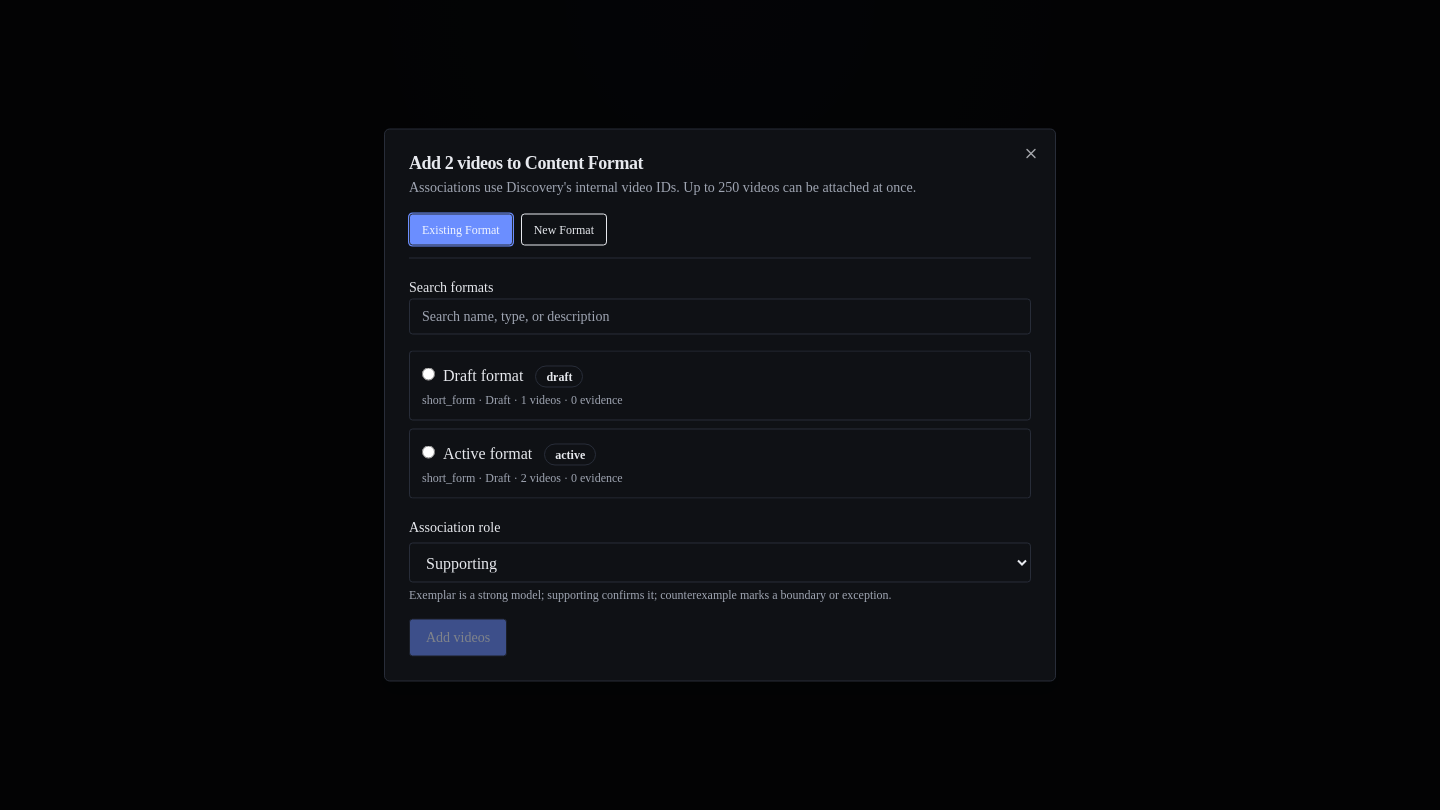
Scenario: Discovery bulk Content Format dialog › sends only internal video IDs in the existing-format bulk payload and invalidates format queries on success
Click the radio button labelled "Draft format": (428, 374) [422,368,435,380]
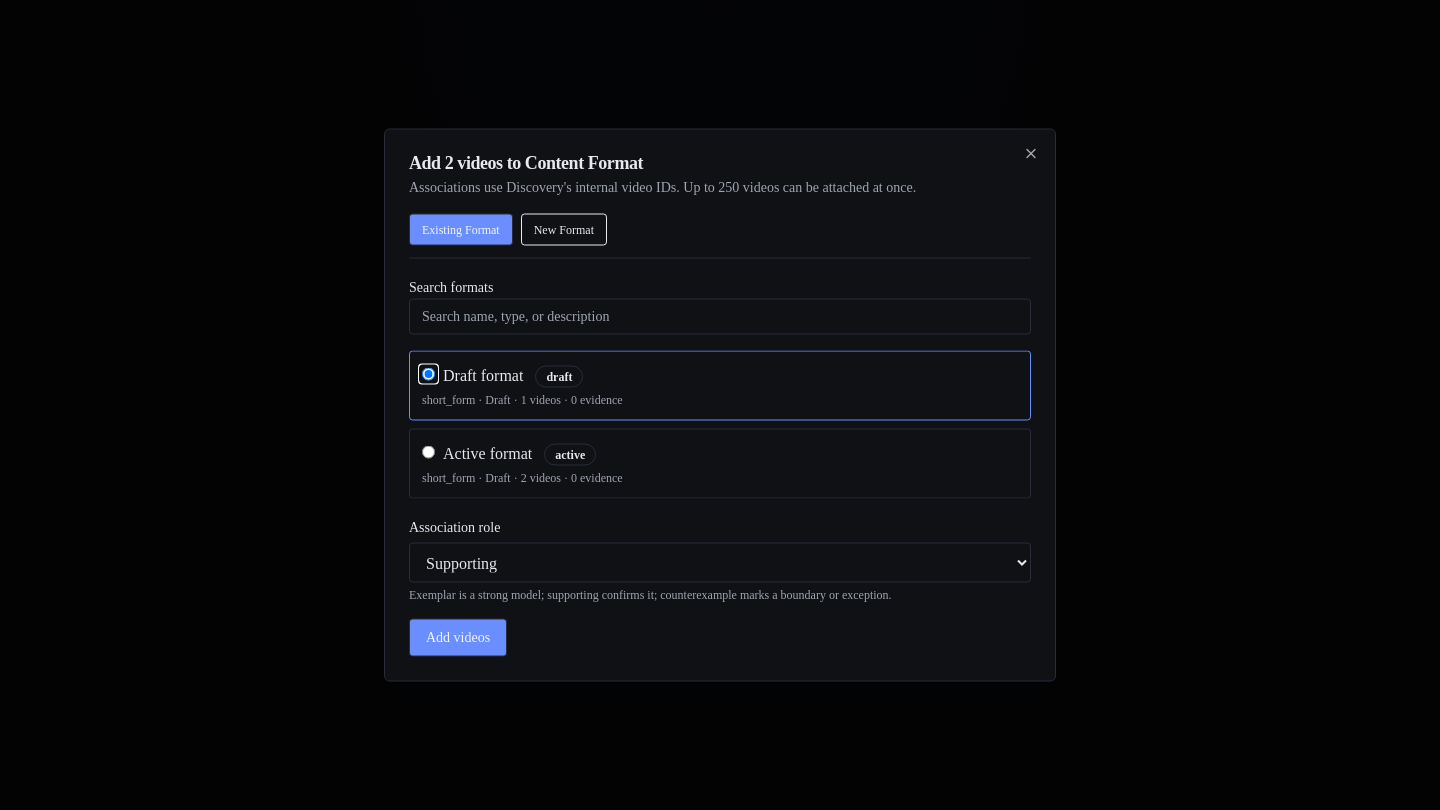
Select "Exemplar" in the dropdown labelled "Association role": (720, 562) [409,542,1031,582]
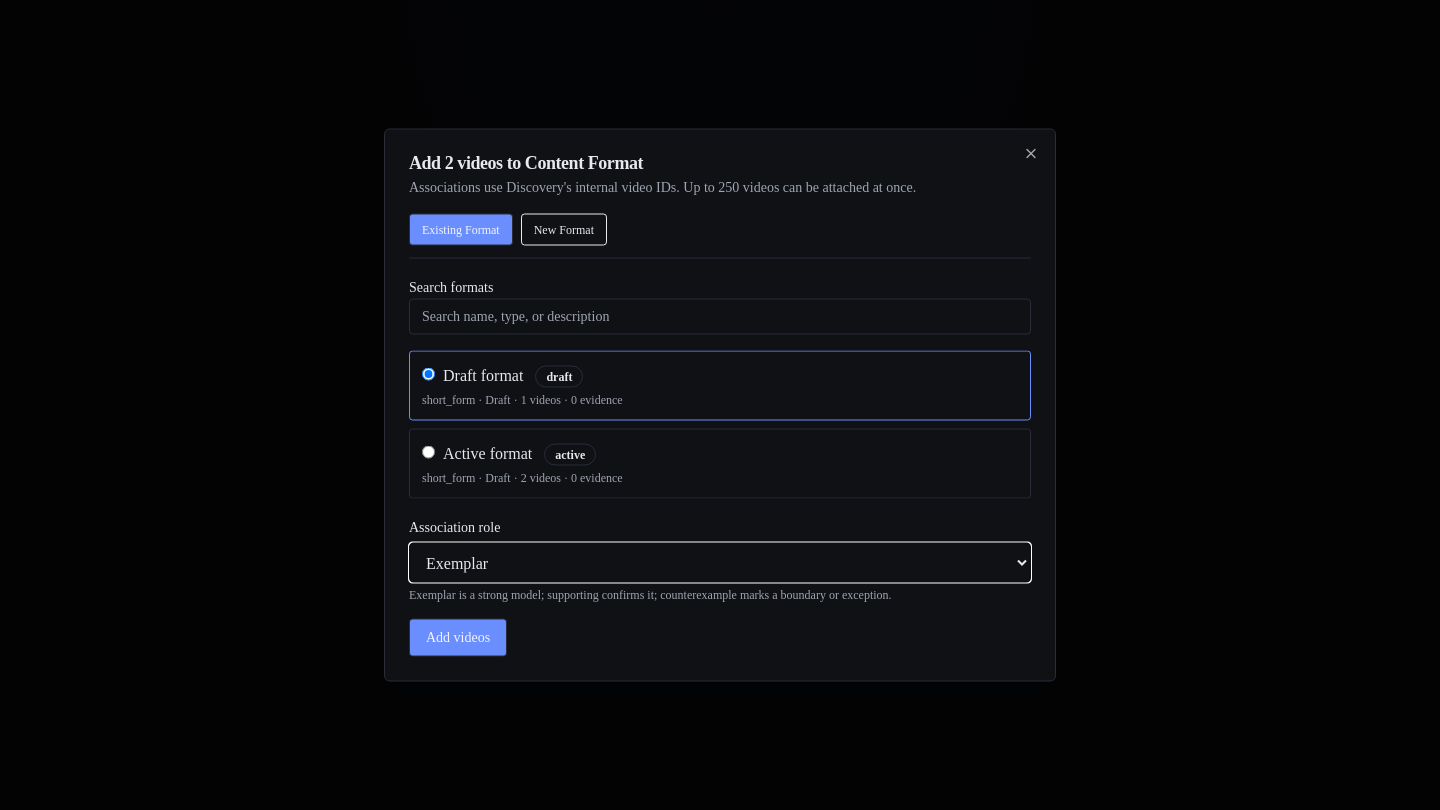
Click the button "Add videos": (458, 638) [409,618,507,656]
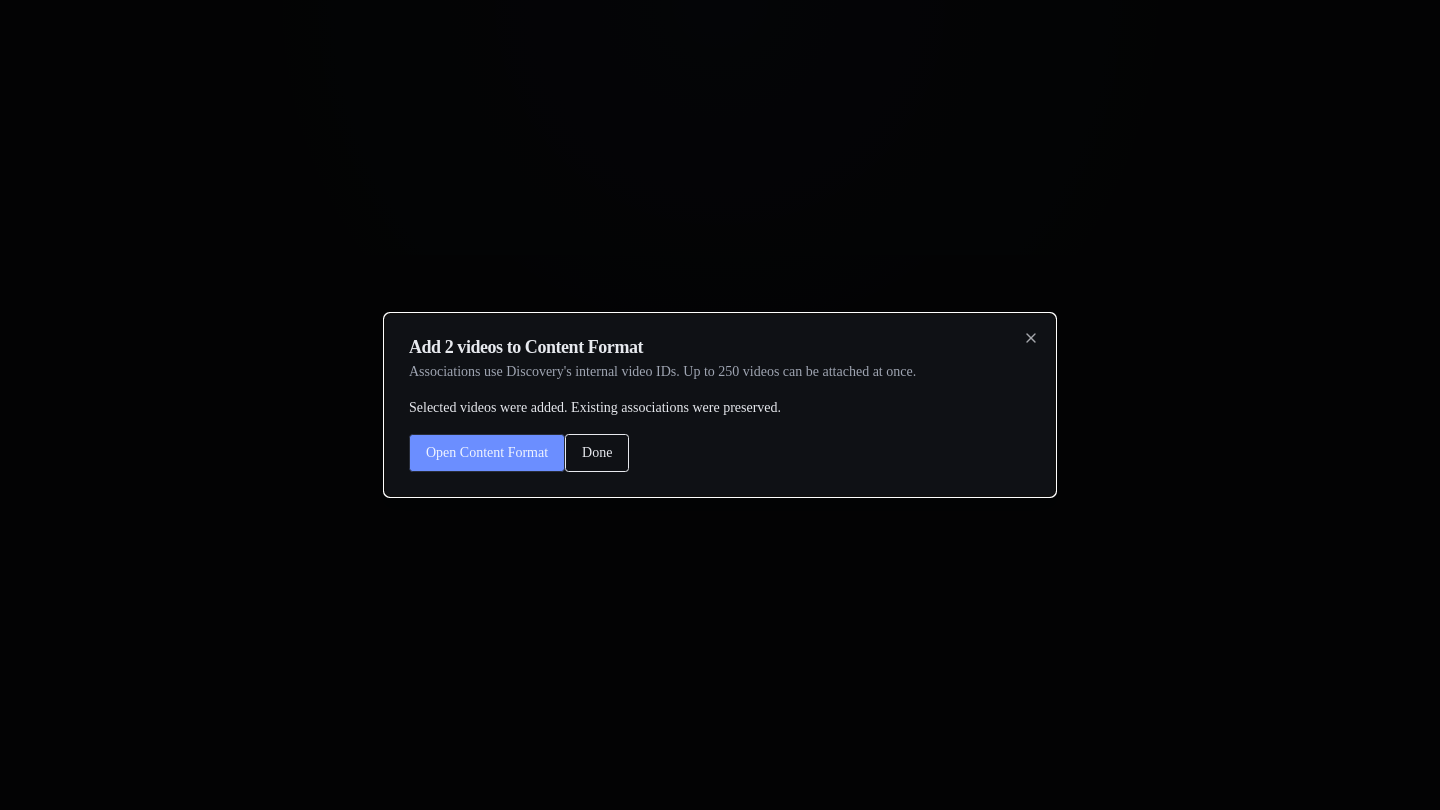
expect the text "Existing associations were preserved" is shown: met, box [409,400,781,415]
